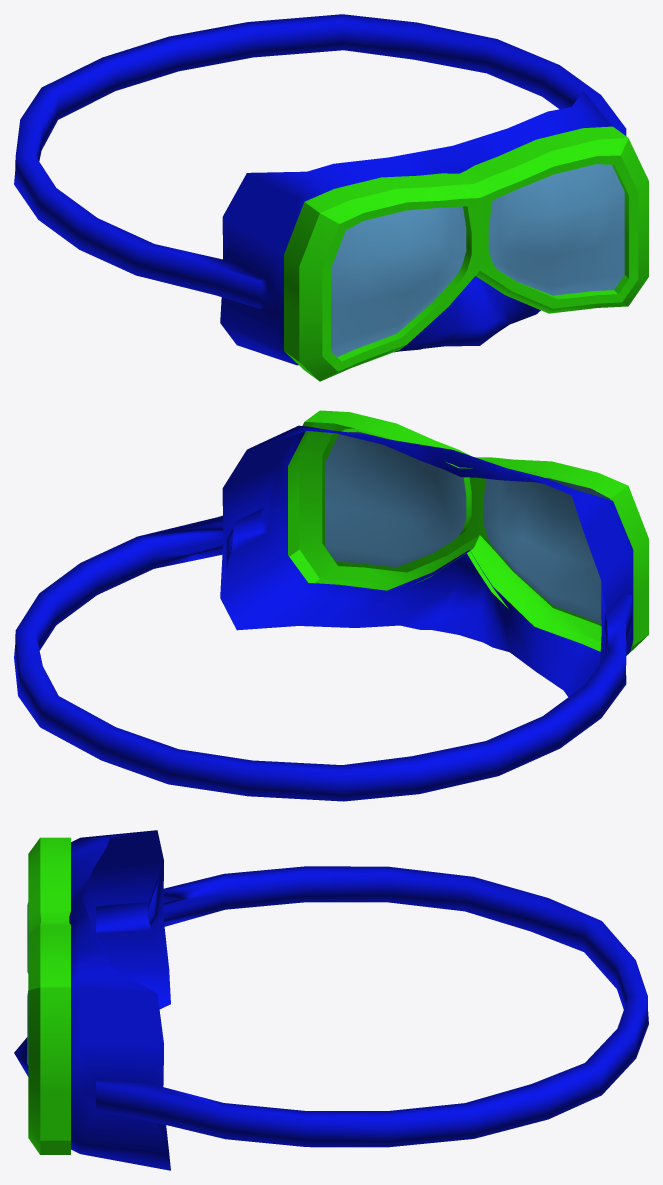
File: CUSwimGoggle.fbx
The picture shows the model from 3 angles, top to bottom: view 1: azimuth 30°, elevation 25°; view 2: azimuth 150°, elevation 25°; view 3: azimuth 270°, elevation 25°; orthographic projection.
Visible parts, largest first — view 1: GoggleBase, GoggleFrame, GoggleLens; view 2: GoggleBase, GoggleLens, GoggleFrame; view 3: GoggleBase, GoggleFrame.
Part boxes in pixels (x1=…): GoggleBase: x1=14, y1=14, x2=626, y2=365; GoggleFrame: x1=284, y1=126, x2=648, y2=381; GoggleLens: x1=331, y1=164, x2=624, y2=357; GoggleBase: x1=14, y1=425, x2=633, y2=801; GoggleLens: x1=325, y1=431, x2=610, y2=623; GoggleFrame: x1=288, y1=410, x2=648, y2=654; GoggleBase: x1=14, y1=830, x2=648, y2=1170; GoggleFrame: x1=28, y1=837, x2=70, y2=1154.
Size of the model in its own units: 147 by 52.49 by 155.
